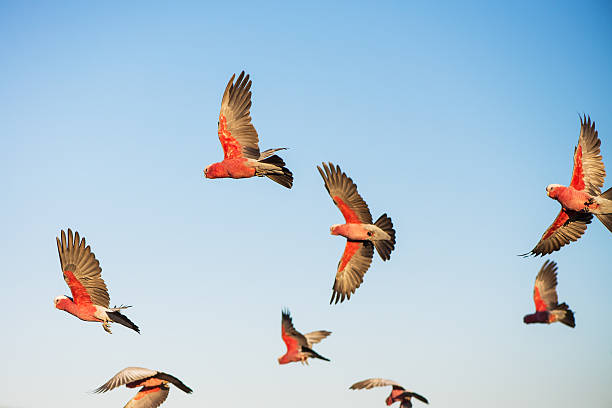Bird: (515, 111, 612, 259), (314, 156, 396, 305), (200, 67, 295, 190), (50, 226, 142, 336), (92, 364, 194, 406), (523, 258, 577, 327), (277, 307, 331, 368), (347, 377, 431, 407)
